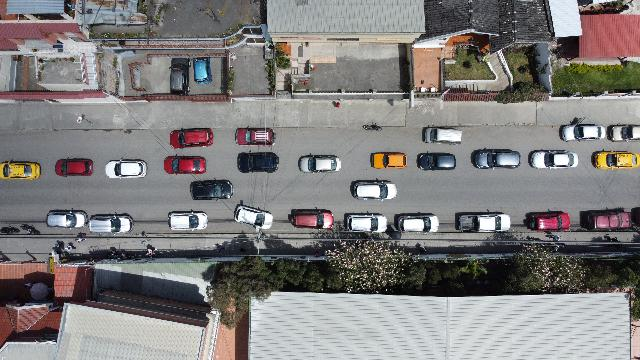Vehiculo: (580, 208, 632, 230), (234, 202, 274, 229), (458, 213, 510, 233), (524, 210, 570, 232), (89, 213, 133, 235), (288, 209, 334, 229), (592, 150, 638, 170), (351, 180, 397, 200), (528, 150, 578, 168), (394, 213, 438, 233), (344, 213, 388, 233), (558, 124, 606, 142), (190, 180, 233, 200), (170, 128, 212, 148), (237, 152, 279, 172), (168, 210, 208, 231), (105, 159, 147, 179), (46, 209, 88, 229), (474, 150, 520, 168), (0, 160, 40, 180), (235, 127, 275, 146), (170, 57, 190, 95), (164, 156, 206, 174), (298, 154, 340, 172), (416, 152, 456, 170), (422, 126, 462, 144), (55, 158, 93, 176), (606, 124, 640, 142), (371, 152, 407, 168), (194, 58, 212, 84)
